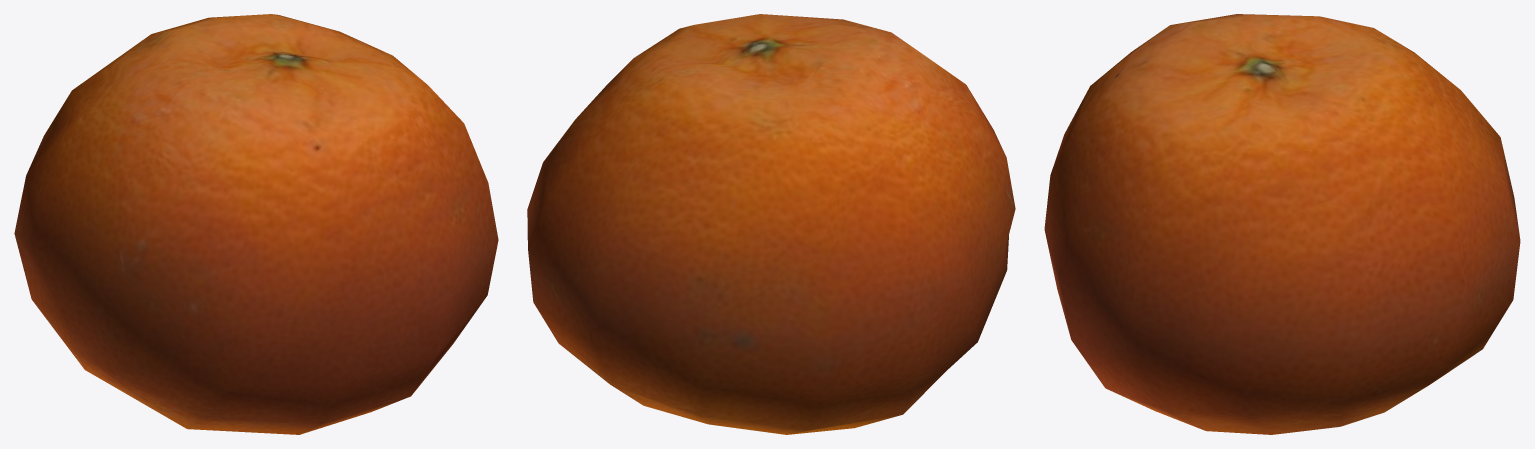
The model's file is A68_Orange_low.fbx.
The picture shows the model from 3 angles, left to right: view 1: azimuth 30°, elevation 25°; view 2: azimuth 150°, elevation 25°; view 3: azimuth 270°, elevation 25°; orthographic projection. The views are drawn at different scales.
Visible parts, largest first — view 1: A68_Orange_low; view 2: A68_Orange_low; view 3: A68_Orange_low.
Boxes of the visible parts, x1,y1,x2,y2 form: A68_Orange_low: (14, 14, 498, 434); A68_Orange_low: (527, 14, 1015, 434); A68_Orange_low: (1044, 14, 1520, 434).
Bounding box in the file's own units: 5.57 × 5.54 × 4.36.
1 material, 1 textured.
